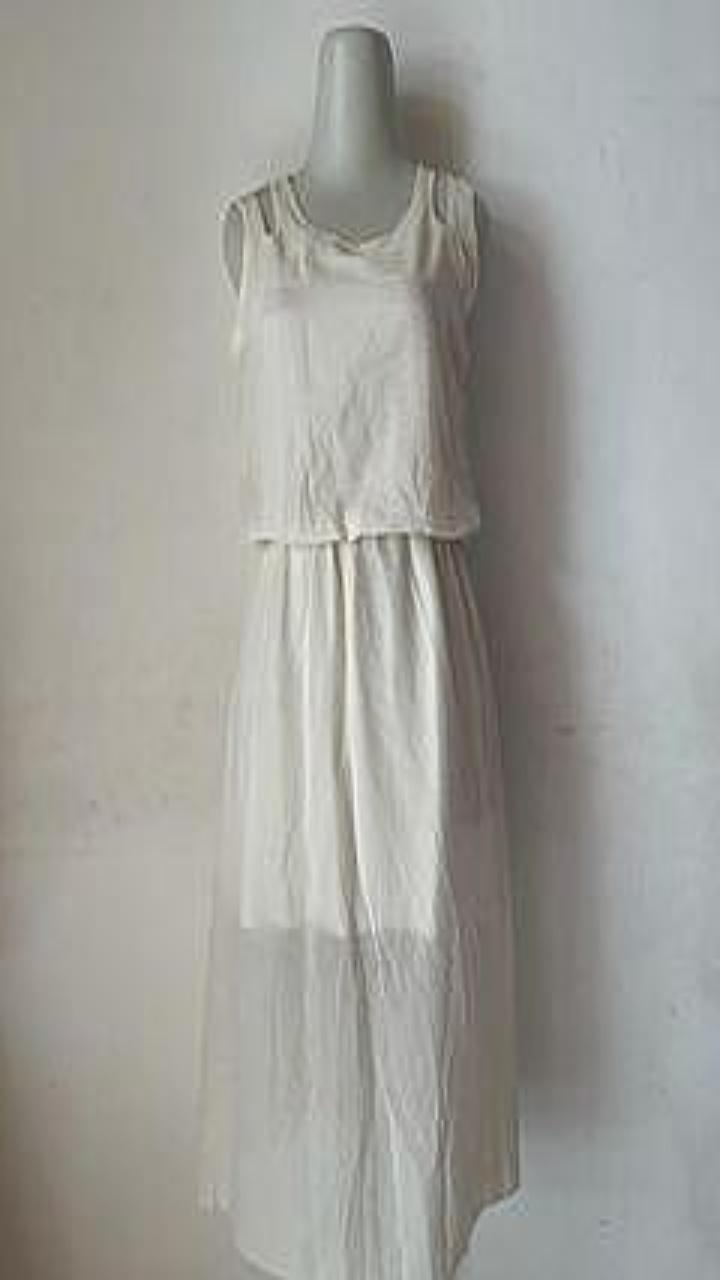Dresses: (199, 164, 518, 1279)
